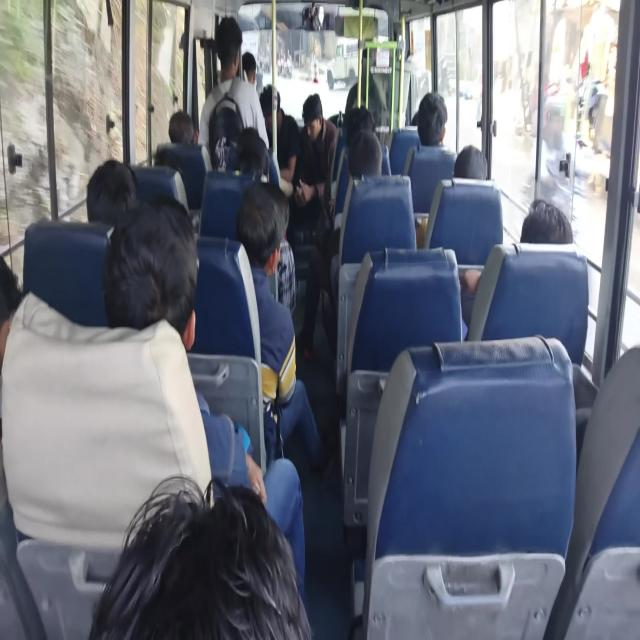person: (108, 422, 284, 640), (124, 222, 196, 370), (516, 190, 595, 286), (237, 185, 277, 274), (234, 146, 288, 202), (353, 122, 392, 194), (97, 167, 133, 238), (454, 143, 495, 192), (216, 26, 244, 92), (142, 152, 193, 188), (172, 102, 202, 159), (0, 226, 12, 355), (424, 88, 444, 149), (237, 128, 270, 160), (261, 85, 285, 126), (296, 96, 326, 128), (345, 108, 369, 138), (242, 57, 260, 91), (412, 94, 428, 118)
